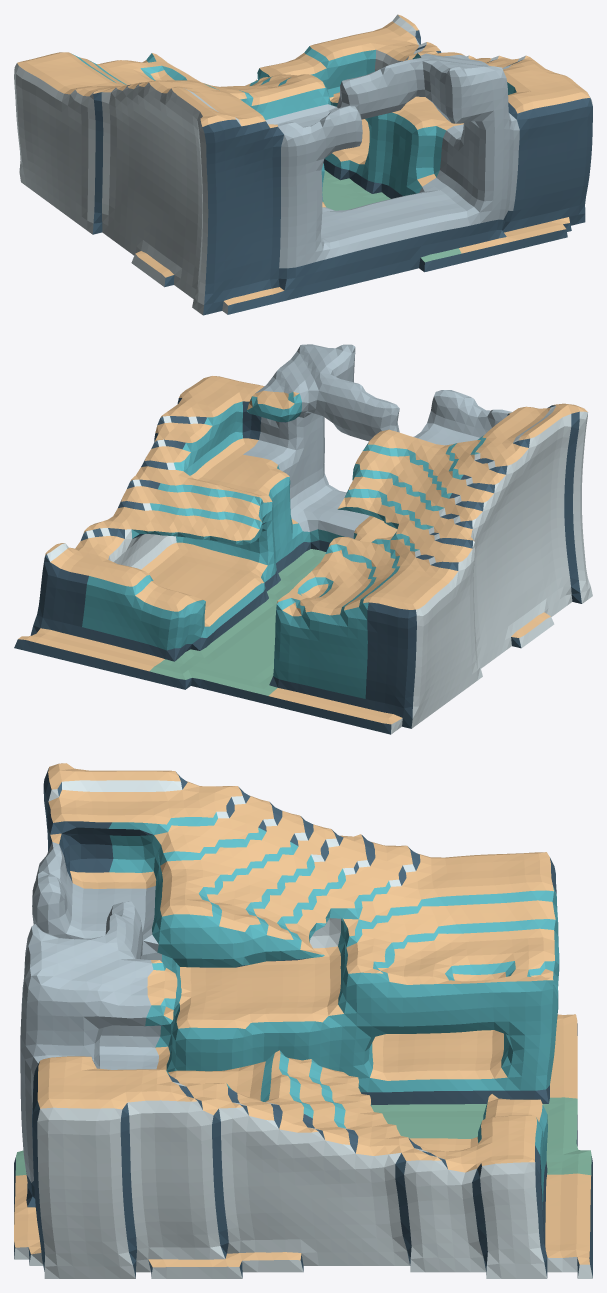
File: a35_curved_integral_city.obj
3 views of the same model, one above another, from view 1: azimuth 30°, elevation 25°; view 2: azimuth 150°, elevation 25°; view 3: azimuth 270°, elevation 25° (orthographic). The views are drawn at different scales.
Bounding box in the file's own units: 420 × 191 × 380.
